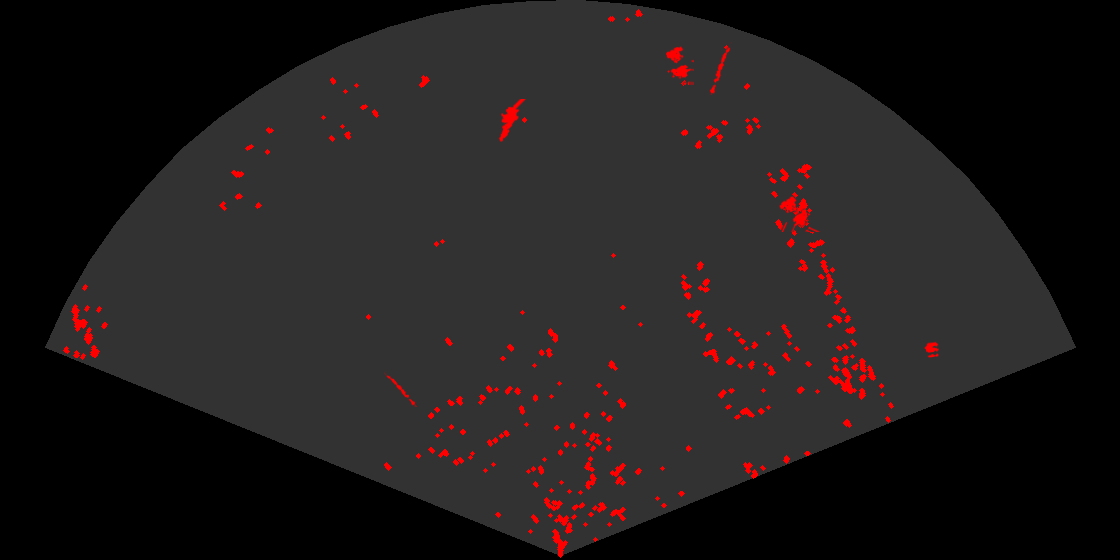ball: (923, 340, 940, 359)
cage: (778, 194, 821, 232), (664, 45, 694, 85)
chain: (708, 42, 733, 95), (384, 370, 419, 407)
frogman: (497, 99, 528, 144)
